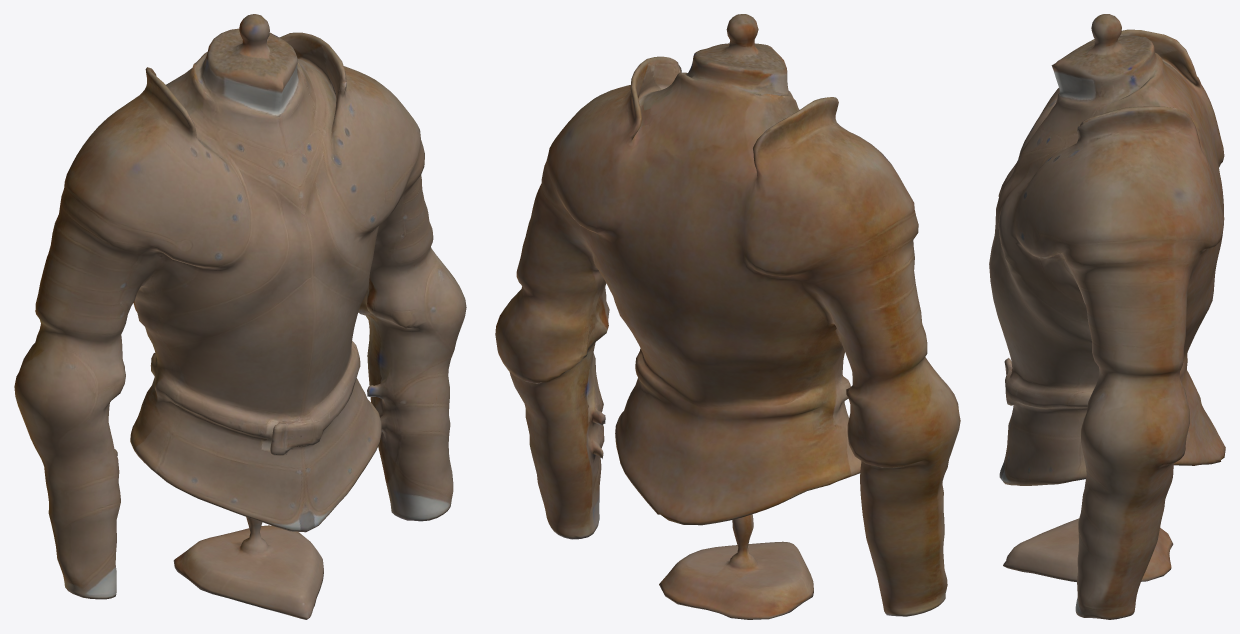
The model's file is Bronze Body.glb.
3 renders of one model, left to right at view 1: azimuth 30°, elevation 25°; view 2: azimuth 150°, elevation 25°; view 3: azimuth 270°, elevation 25°, orthographic. The views are drawn at different scales.
Parts seen in each view (by area): view 1: file1; view 2: file1; view 3: file1.
Boxes of the visible parts, left/top/right/bottom form: file1: left=14, top=14, right=466, bottom=619; file1: left=495, top=14, right=960, bottom=619; file1: left=989, top=14, right=1225, bottom=619.
Bounding box in the file's own units: 1.61 × 2 × 0.78.
1 material, 1 textured.
